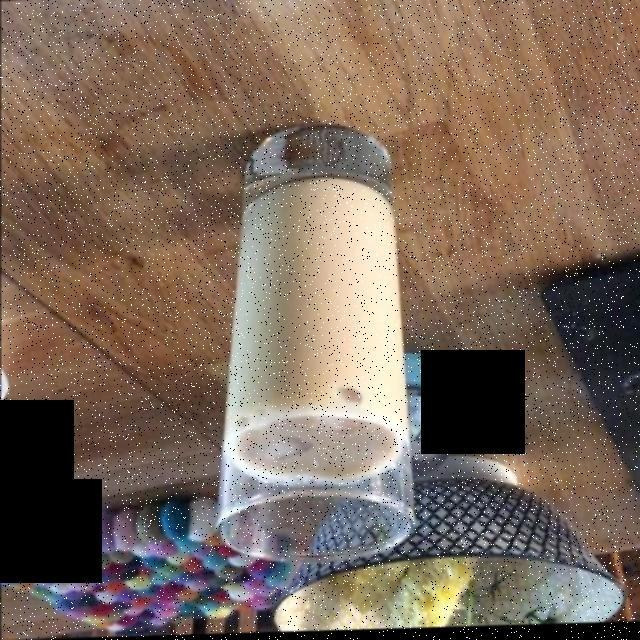coffee: (233, 180, 405, 484)
ice-cubes: (239, 389, 398, 466)
